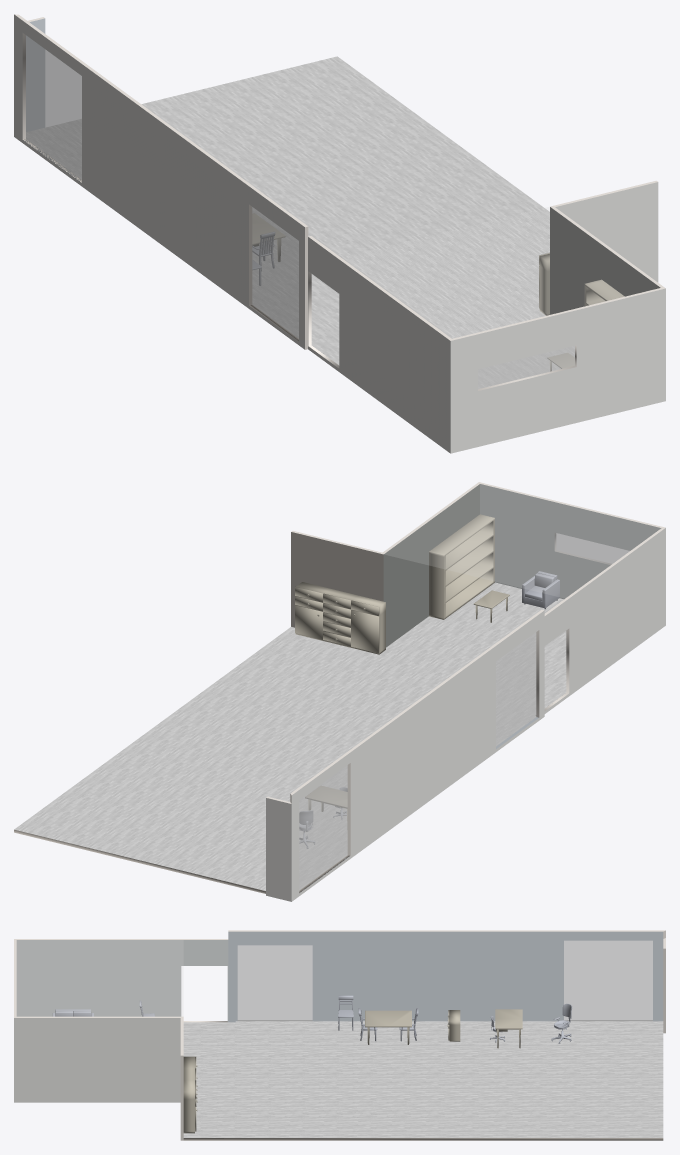
The model's file is Staff room p2, connect right.fbx.
3 views of the same model, one above another, from view 1: azimuth 30°, elevation 25°; view 2: azimuth 150°, elevation 25°; view 3: azimuth 270°, elevation 25° (orthographic). The views are drawn at different scales.
Parts seen in each view (by area): view 1: node_1d1219cb_1e2f_4bb7_9f4d_47e4469cfbde_mesh0, node_472582b2_eef4_47f5_a09e_60b76185d9ef_mesh0, node_85ce5800_b0fc_4b17_ac46_aafea3b15ae0_mesh0, node_ce41feac_76b7_45dc_a00b_85f51d0686fb_mesh0, node_24b83e23_ffe0_4abe_9944_4fb19fdab43e_mesh0, node_64cdb42f_cafa_4ee7_9662_7a7012c6402a_mesh0, node_e1580455_a950_4a1b_b1d4_c0e0b6a43eff_mesh0, node_7b5091b8_093e_44f1_8089_337d71a00727_mesh0, node_880e89de_6ba2_408f_9e51_9cd053125d55_mesh0, node_065dd9e8_7d48_46d1_a7e8_3d92d64031ac_mesh0, node_c895fb85_e445_4b1a_9795_6f481ed5005b_mesh0, node_7b9a4975_b9b3_4110_a2e7_19aaf36de4aa_mesh0 (+7 smaller); view 2: node_1d1219cb_1e2f_4bb7_9f4d_47e4469cfbde_mesh0, node_472582b2_eef4_47f5_a09e_60b76185d9ef_mesh0, node_85ce5800_b0fc_4b17_ac46_aafea3b15ae0_mesh0, node_24b83e23_ffe0_4abe_9944_4fb19fdab43e_mesh0, node_f4f743e7_3568_4bbc_85a6_07bc0913df43_mesh0, node_689cc599_a282_4602_97f4_ac7ae682a13b_mesh0, node_7b5091b8_093e_44f1_8089_337d71a00727_mesh0, node_b5dfb30a_ede6_468e_a4e5_e89f9ed6524b_mesh0, node_a024b7d4_4921_4434_8f05_865ddc0d17a2_mesh0, node_25e62af0_a243_4f8c_a474_477f0b7080a1_mesh0, node_64cdb42f_cafa_4ee7_9662_7a7012c6402a_mesh0, node_e1580455_a950_4a1b_b1d4_c0e0b6a43eff_mesh0 (+10 smaller); view 3: node_1d1219cb_1e2f_4bb7_9f4d_47e4469cfbde_mesh0, node_67586a44_a772_4a58_8677_f207dbfe79e1_mesh0, node_992c3bec_5086_4489_8805_625dbf0e98df_mesh0, node_6dcc01af_064c_45e1_90ec_e9128ed296de_mesh0, node_85ce5800_b0fc_4b17_ac46_aafea3b15ae0_mesh0, node_64cdb42f_cafa_4ee7_9662_7a7012c6402a_mesh0, node_e1580455_a950_4a1b_b1d4_c0e0b6a43eff_mesh0, node_065dd9e8_7d48_46d1_a7e8_3d92d64031ac_mesh0, node_c895fb85_e445_4b1a_9795_6f481ed5005b_mesh0, node_58ae769a_6714_44b7_aff8_8f68306dab47_mesh0, node_a024b7d4_4921_4434_8f05_865ddc0d17a2_mesh0, node_d3bbc166_9e22_41d2_9b60_cd20475766cb_mesh0 (+6 smaller).
Part boxes in pixels (bbox=[...]): node_1d1219cb_1e2f_4bb7_9f4d_47e4469cfbde_mesh0: bbox=[26, 56, 549, 365]; node_472582b2_eef4_47f5_a09e_60b76185d9ef_mesh0: bbox=[14, 14, 304, 349]; node_85ce5800_b0fc_4b17_ac46_aafea3b15ae0_mesh0: bbox=[342, 207, 659, 337]; node_ce41feac_76b7_45dc_a00b_85f51d0686fb_mesh0: bbox=[450, 288, 665, 453]; node_24b83e23_ffe0_4abe_9944_4fb19fdab43e_mesh0: bbox=[308, 237, 450, 453]; node_64cdb42f_cafa_4ee7_9662_7a7012c6402a_mesh0: bbox=[26, 35, 81, 179]; node_e1580455_a950_4a1b_b1d4_c0e0b6a43eff_mesh0: bbox=[26, 36, 81, 179]; node_7b5091b8_093e_44f1_8089_337d71a00727_mesh0: bbox=[550, 207, 660, 314]; node_880e89de_6ba2_408f_9e51_9cd053125d55_mesh0: bbox=[555, 182, 658, 282]; node_065dd9e8_7d48_46d1_a7e8_3d92d64031ac_mesh0: bbox=[252, 207, 298, 338]; node_c895fb85_e445_4b1a_9795_6f481ed5005b_mesh0: bbox=[252, 207, 298, 337]; node_7b9a4975_b9b3_4110_a2e7_19aaf36de4aa_mesh0: bbox=[478, 346, 574, 388]; node_1d1219cb_1e2f_4bb7_9f4d_47e4469cfbde_mesh0: bbox=[14, 627, 564, 890]; node_472582b2_eef4_47f5_a09e_60b76185d9ef_mesh0: bbox=[291, 610, 544, 901]; node_85ce5800_b0fc_4b17_ac46_aafea3b15ae0_mesh0: bbox=[385, 484, 660, 597]; node_24b83e23_ffe0_4abe_9944_4fb19fdab43e_mesh0: bbox=[544, 528, 665, 713]; node_f4f743e7_3568_4bbc_85a6_07bc0913df43_mesh0: bbox=[480, 484, 661, 599]; node_689cc599_a282_4602_97f4_ac7ae682a13b_mesh0: bbox=[386, 582, 566, 693]; node_7b5091b8_093e_44f1_8089_337d71a00727_mesh0: bbox=[383, 484, 479, 647]; node_b5dfb30a_ede6_468e_a4e5_e89f9ed6524b_mesh0: bbox=[429, 514, 494, 619]; node_a024b7d4_4921_4434_8f05_865ddc0d17a2_mesh0: bbox=[295, 582, 385, 654]; node_25e62af0_a243_4f8c_a474_477f0b7080a1_mesh0: bbox=[291, 532, 383, 627]; node_64cdb42f_cafa_4ee7_9662_7a7012c6402a_mesh0: bbox=[299, 765, 347, 889]; node_e1580455_a950_4a1b_b1d4_c0e0b6a43eff_mesh0: bbox=[299, 766, 347, 889]; node_1d1219cb_1e2f_4bb7_9f4d_47e4469cfbde_mesh0: bbox=[183, 1021, 663, 1137]; node_67586a44_a772_4a58_8677_f207dbfe79e1_mesh0: bbox=[228, 931, 663, 1022]; node_992c3bec_5086_4489_8805_625dbf0e98df_mesh0: bbox=[14, 1018, 180, 1102]; node_6dcc01af_064c_45e1_90ec_e9128ed296de_mesh0: bbox=[16, 940, 228, 1021]; node_85ce5800_b0fc_4b17_ac46_aafea3b15ae0_mesh0: bbox=[17, 940, 182, 1015]; node_64cdb42f_cafa_4ee7_9662_7a7012c6402a_mesh0: bbox=[564, 941, 652, 1020]; node_e1580455_a950_4a1b_b1d4_c0e0b6a43eff_mesh0: bbox=[564, 941, 652, 1020]; node_065dd9e8_7d48_46d1_a7e8_3d92d64031ac_mesh0: bbox=[238, 945, 312, 1020]; node_c895fb85_e445_4b1a_9795_6f481ed5005b_mesh0: bbox=[238, 945, 312, 1020]; node_58ae769a_6714_44b7_aff8_8f68306dab47_mesh0: bbox=[183, 1138, 663, 1140]; node_a024b7d4_4921_4434_8f05_865ddc0d17a2_mesh0: bbox=[183, 1056, 197, 1133]; node_d3bbc166_9e22_41d2_9b60_cd20475766cb_mesh0: bbox=[365, 1010, 411, 1044].
Size of the model in its own units: 987 by 360 by 2305.
13 materials, 2 textured.
